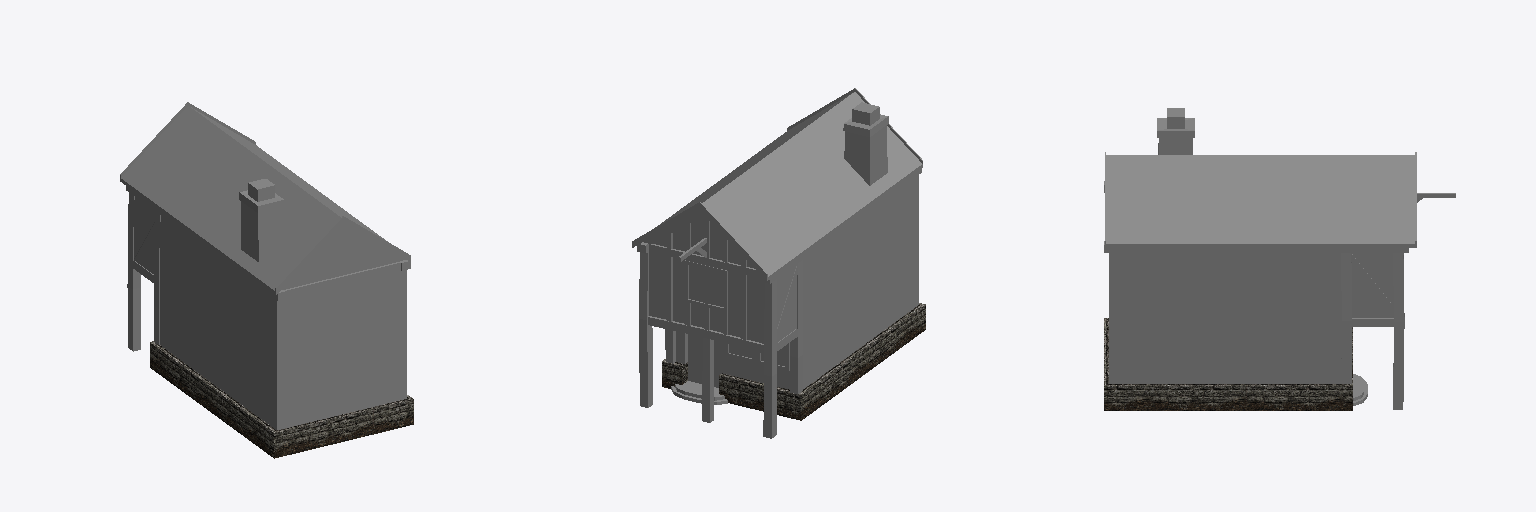
3 renders of one model, left to right at view 1: azimuth 30°, elevation 25°; view 2: azimuth 150°, elevation 25°; view 3: azimuth 270°, elevation 25°, orthographic.
Visible parts, largest first — view 1: poorfolks_house_side_shop; view 2: poorfolks_house_side_shop; view 3: poorfolks_house_side_shop.
Boxes of the visible parts, x1,y1,x2,y2 form: poorfolks_house_side_shop: [120, 102, 413, 458]; poorfolks_house_side_shop: [632, 88, 925, 438]; poorfolks_house_side_shop: [1104, 108, 1455, 410].
Size of the model in its own units: 361 by 598 by 788.
Materials: 10 (1 with a texture image).